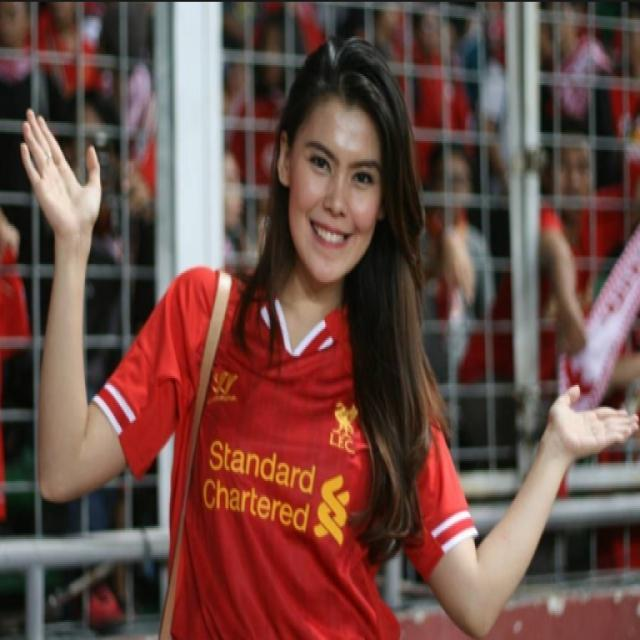Standard Chartered: (203, 441, 350, 546)
